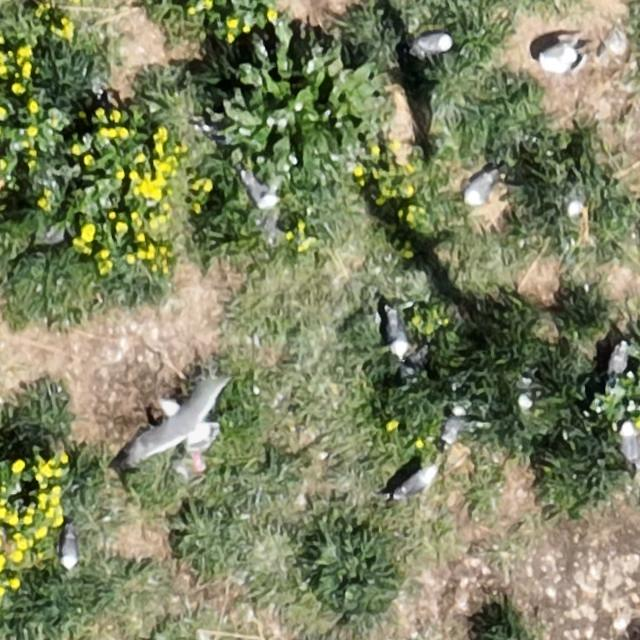F: (142, 376, 230, 455)
umineko: (239, 168, 279, 214), (380, 306, 409, 362), (397, 467, 436, 494), (558, 180, 582, 220), (466, 172, 494, 206), (540, 44, 576, 70), (413, 33, 452, 55), (610, 342, 630, 382), (620, 424, 639, 466), (60, 532, 78, 569)
